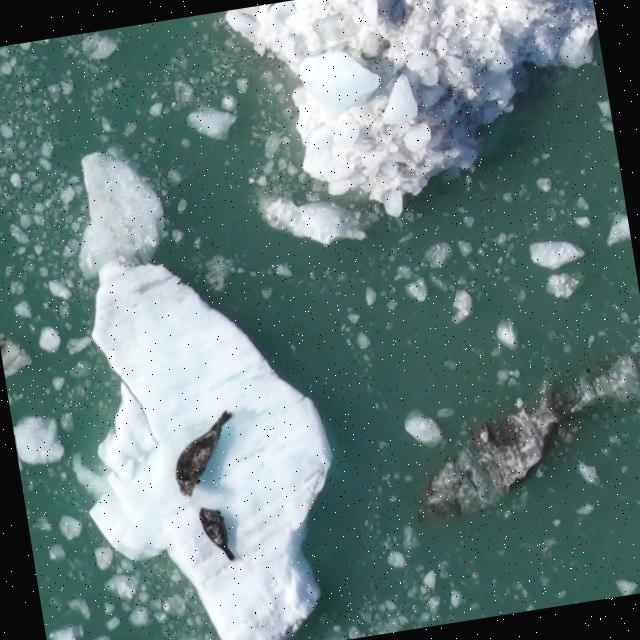seal: (165, 406, 252, 503), (194, 499, 240, 569)
